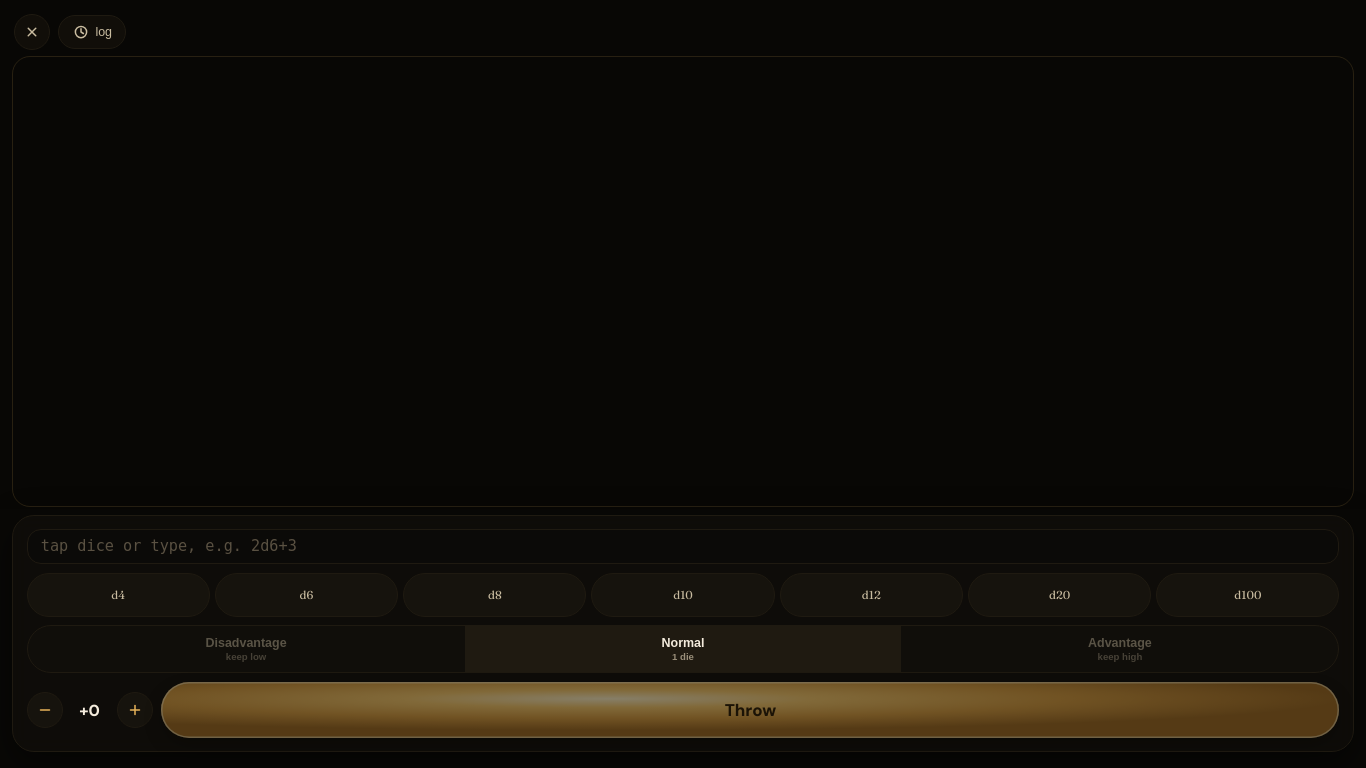
Test: DiceTray › rolls via the headless engine under reduced motion and shows the result
Click the button named "Add d20".
click(1060, 595)  # box [968,573,1151,617]
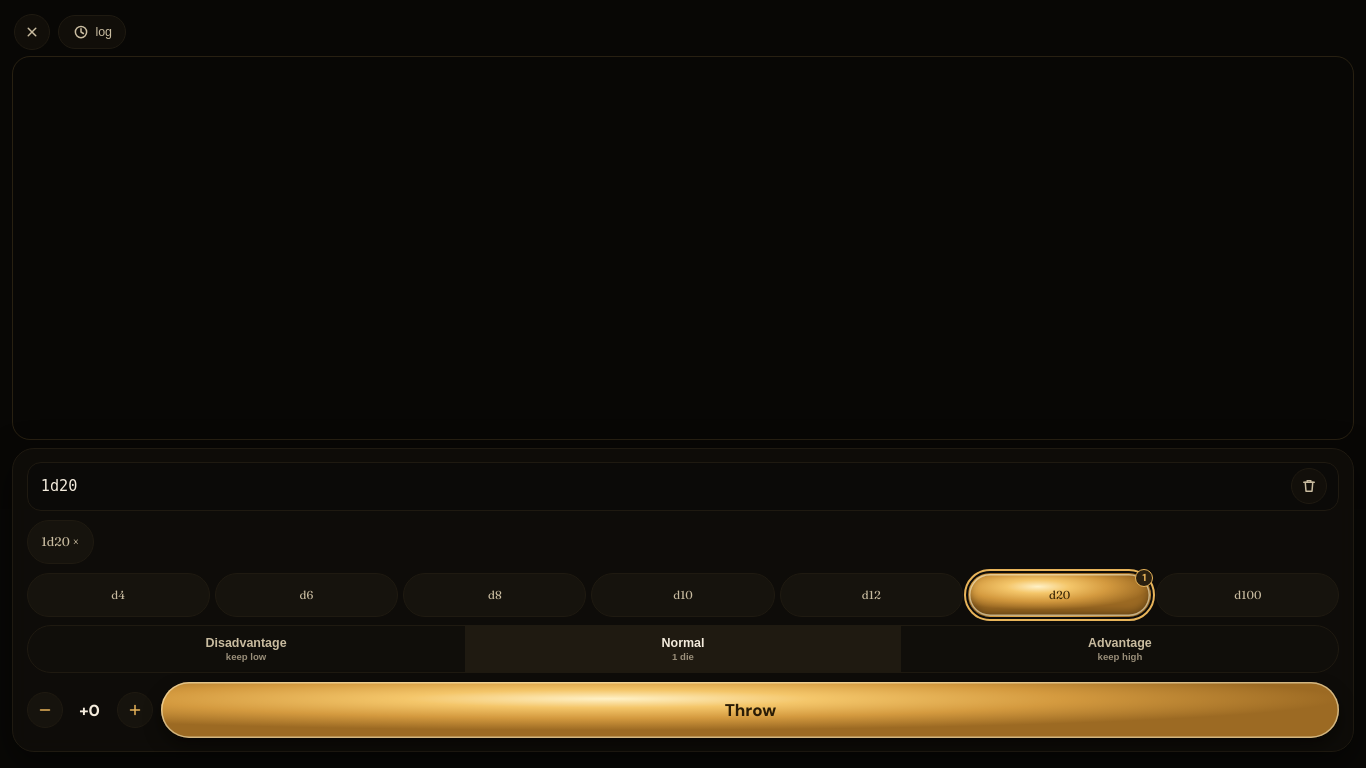
Click the button "Throw".
click(750, 710)  # box [161,682,1339,738]
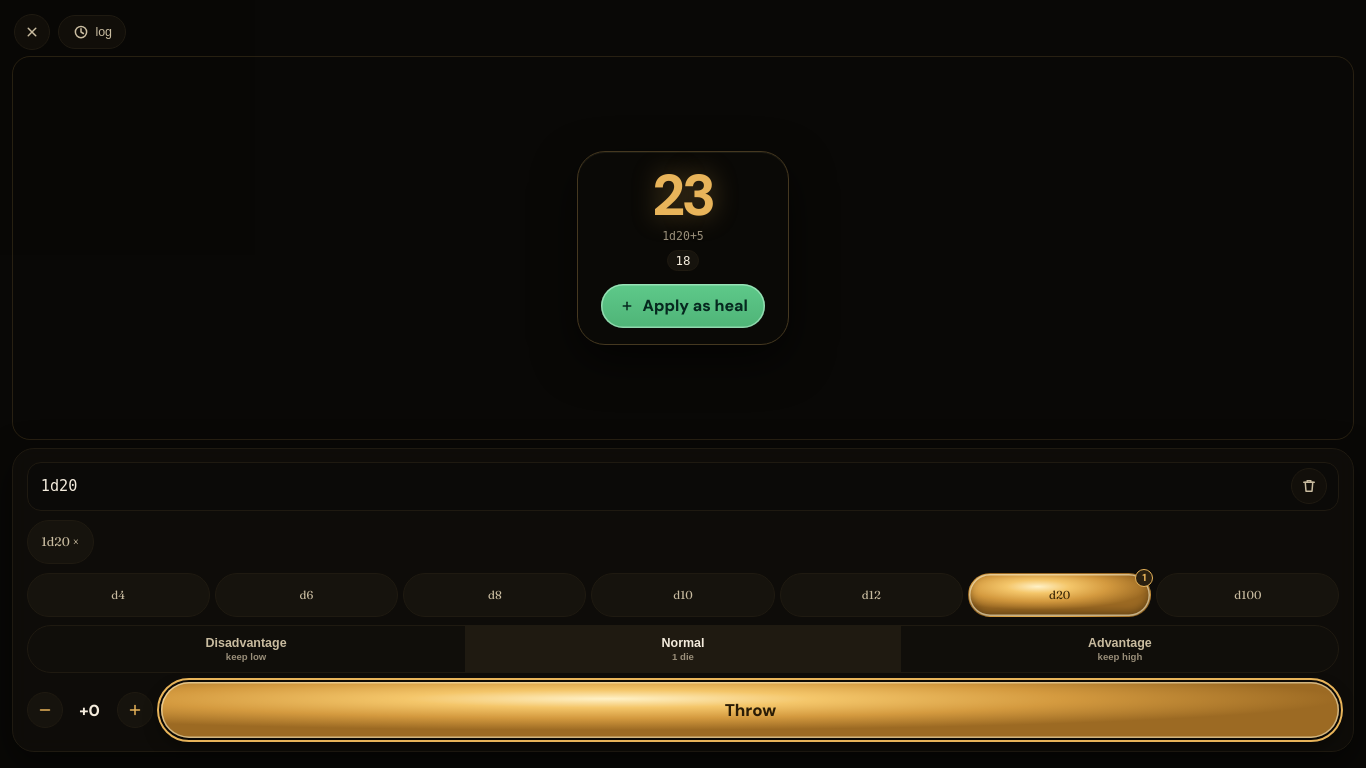
Result: the text "23" is shown at [653,166,712,224]
